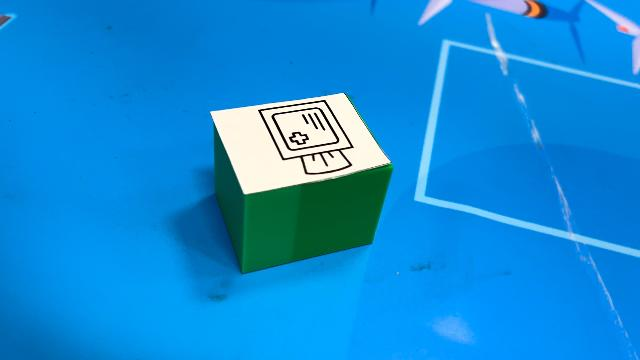napkin: (209, 91, 395, 275)
